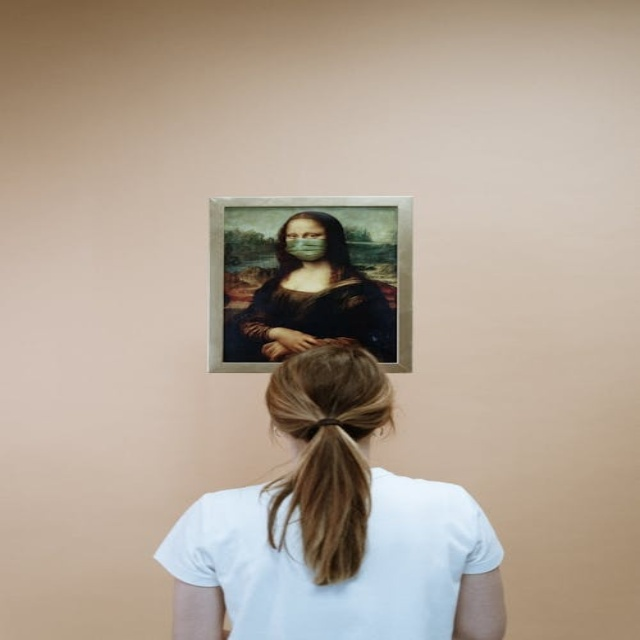Mascara: (284, 236, 327, 260)
Sin_gafas: (284, 228, 323, 237)
